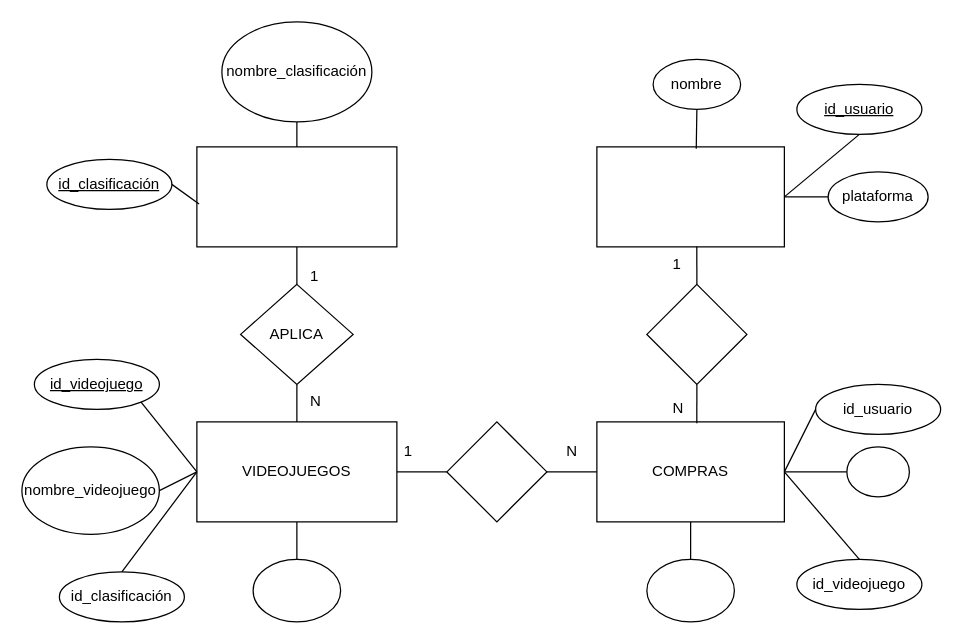
The diagram is 963 pixels wide and 644 high, and some of its shapes have lost their labels. Each missing label, with the box of its shape:
año: (846, 446, 909, 497)
CLASIFICACIONES: (196, 146, 397, 247)
CONTIENE: (446, 421, 547, 522)
id_compra: (646, 558, 734, 622)
precio: (252, 558, 341, 622)
REALIZA: (646, 283, 747, 384)
USUARIOS: (596, 146, 784, 247)
